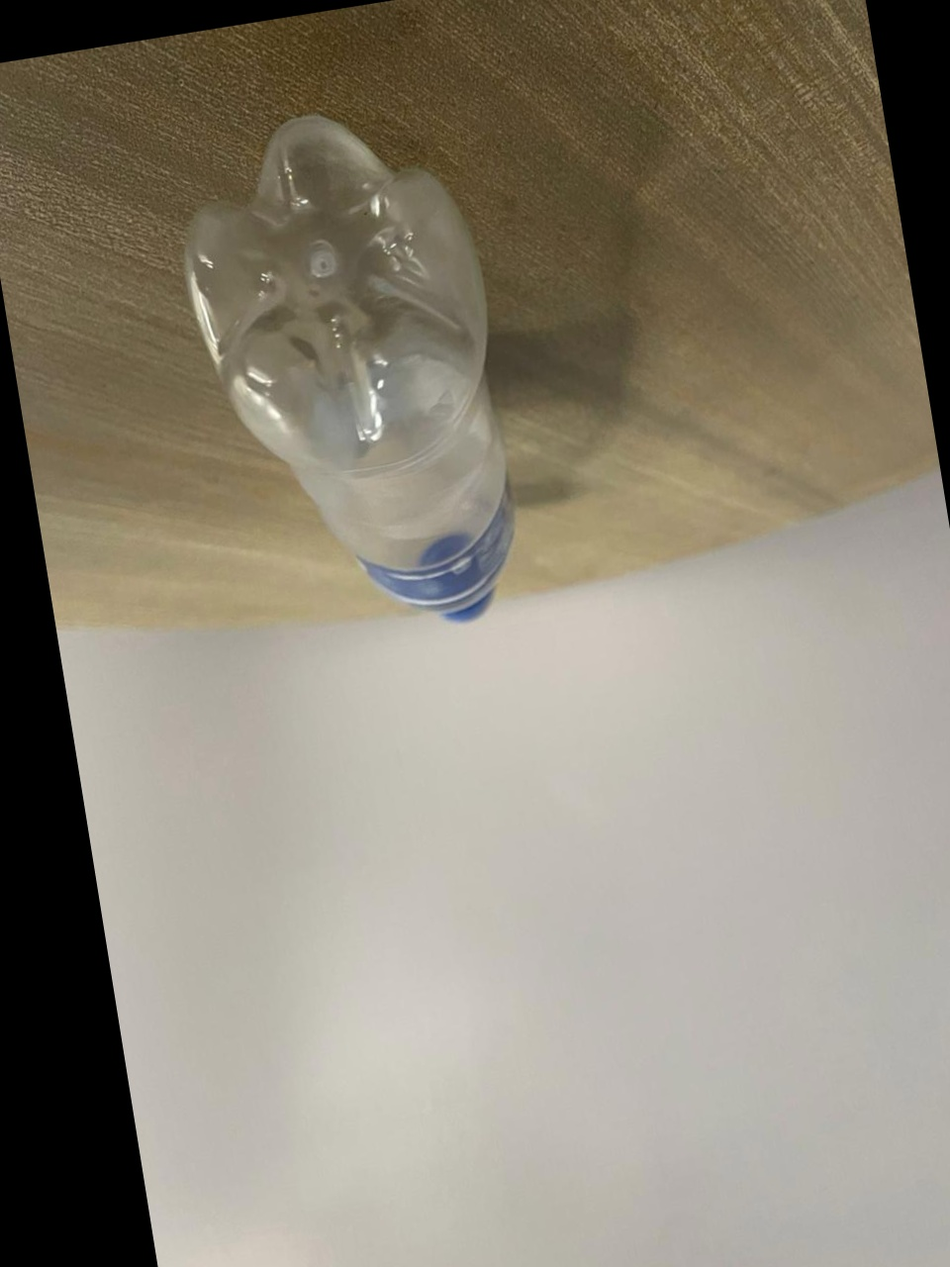Pepsi Bottle: (169, 71, 549, 684), (167, 86, 544, 682)
